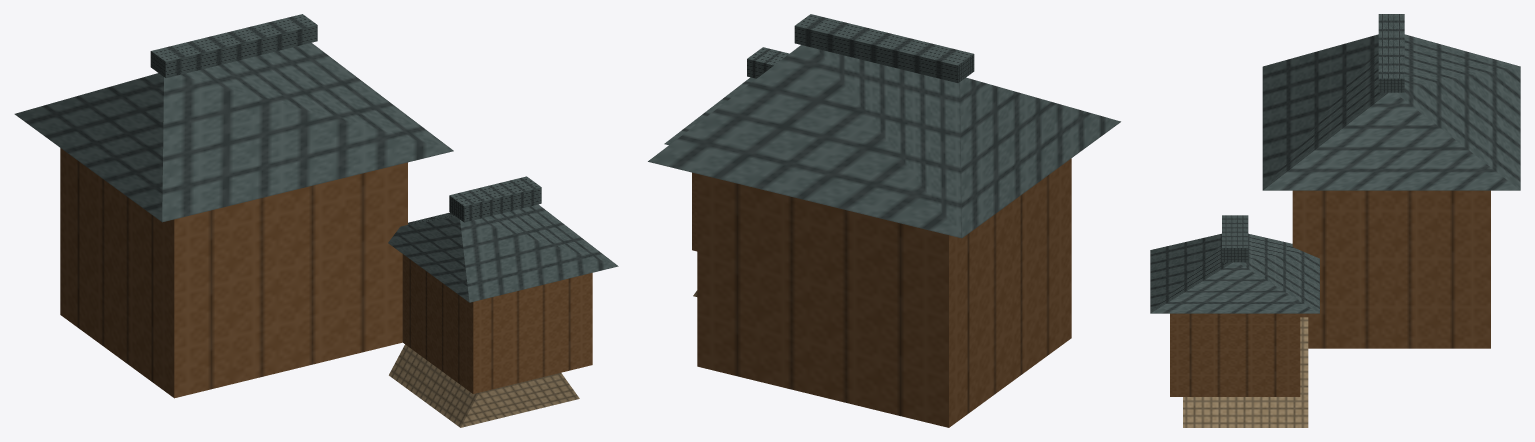
Rendered from domestic-BARRACKS-2-lod1.glb.
The picture shows the model from 3 angles, left to right: view 1: azimuth 30°, elevation 25°; view 2: azimuth 150°, elevation 25°; view 3: azimuth 270°, elevation 25°; orthographic projection. The views are drawn at different scales.
Bounding box in the file's own units: 0.755 × 0.604 × 0.7095.
1 material, 1 textured.
